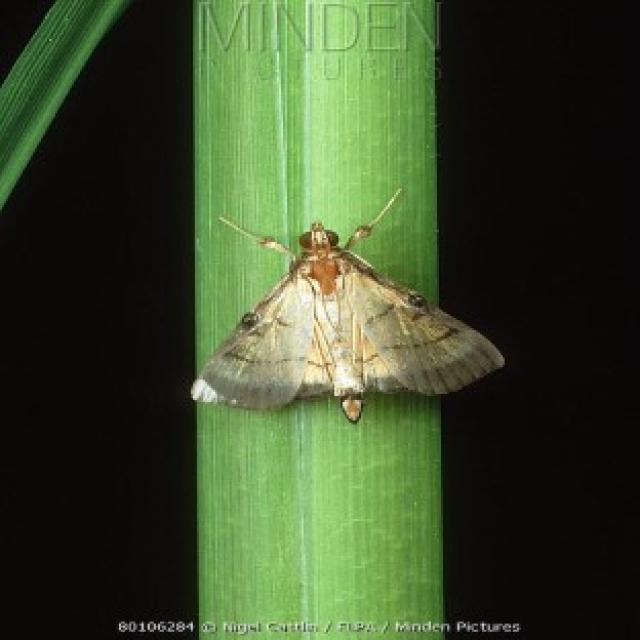rice leaf roller: (191, 191, 503, 421)
